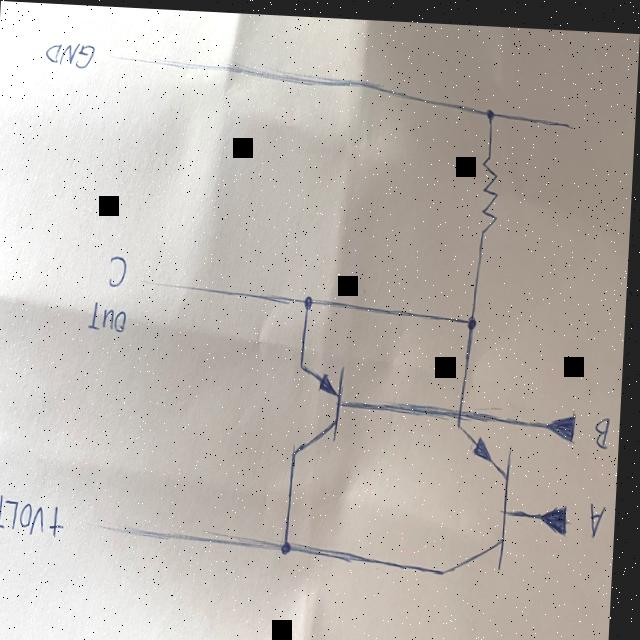crossover: (454, 390, 472, 419)
junction: (300, 283, 323, 314), (465, 303, 485, 338), (481, 94, 502, 127), (281, 526, 301, 557)
resistor: (471, 145, 505, 233)
terminal: (84, 507, 152, 542), (543, 403, 586, 444), (538, 495, 578, 535), (134, 264, 179, 298), (102, 44, 145, 78), (542, 103, 579, 135)
text: (0, 492, 51, 542), (42, 34, 97, 72), (89, 299, 131, 338), (106, 249, 131, 289), (591, 494, 611, 535), (597, 407, 616, 448), (53, 503, 71, 539)
transistor: (440, 418, 523, 587), (288, 354, 357, 460)
